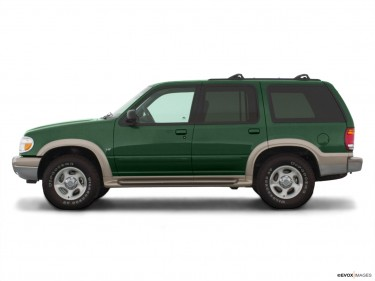Ford Explorer: (10, 70, 364, 212)
